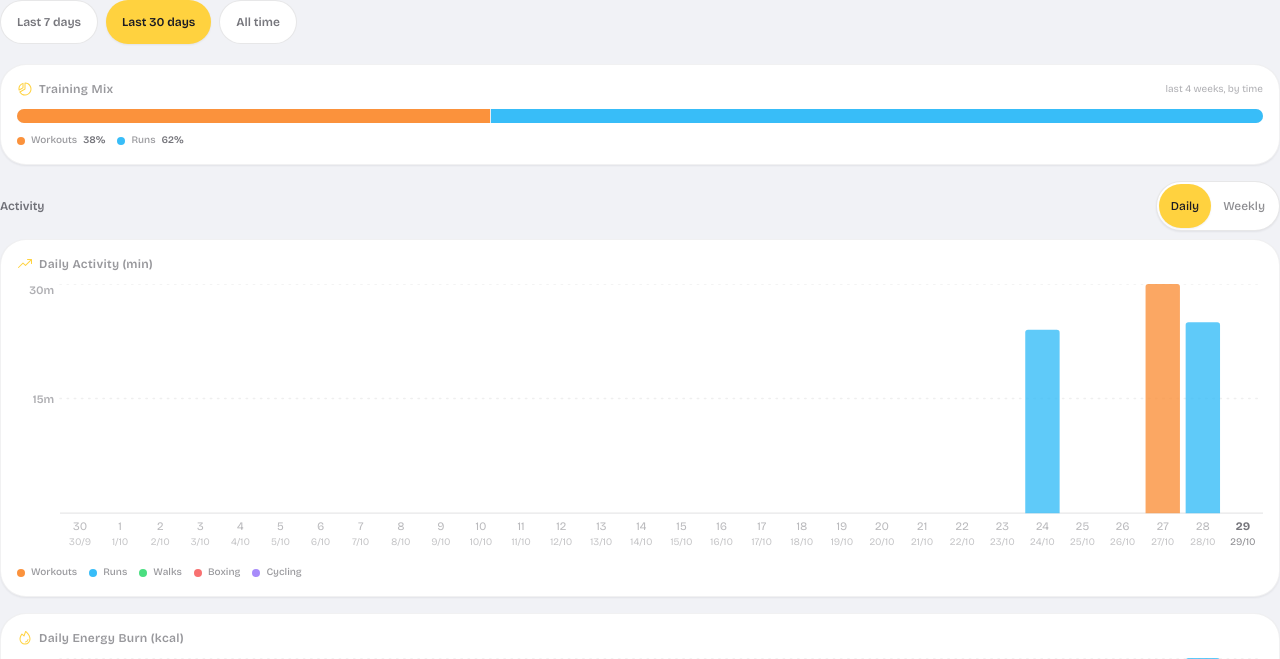
StatsTab › switches to weekly chart mode on Weekly click
This screenshot has width=1280, height=659.
Click the button "Weekly": (1244, 206) [1211,184,1277,228]
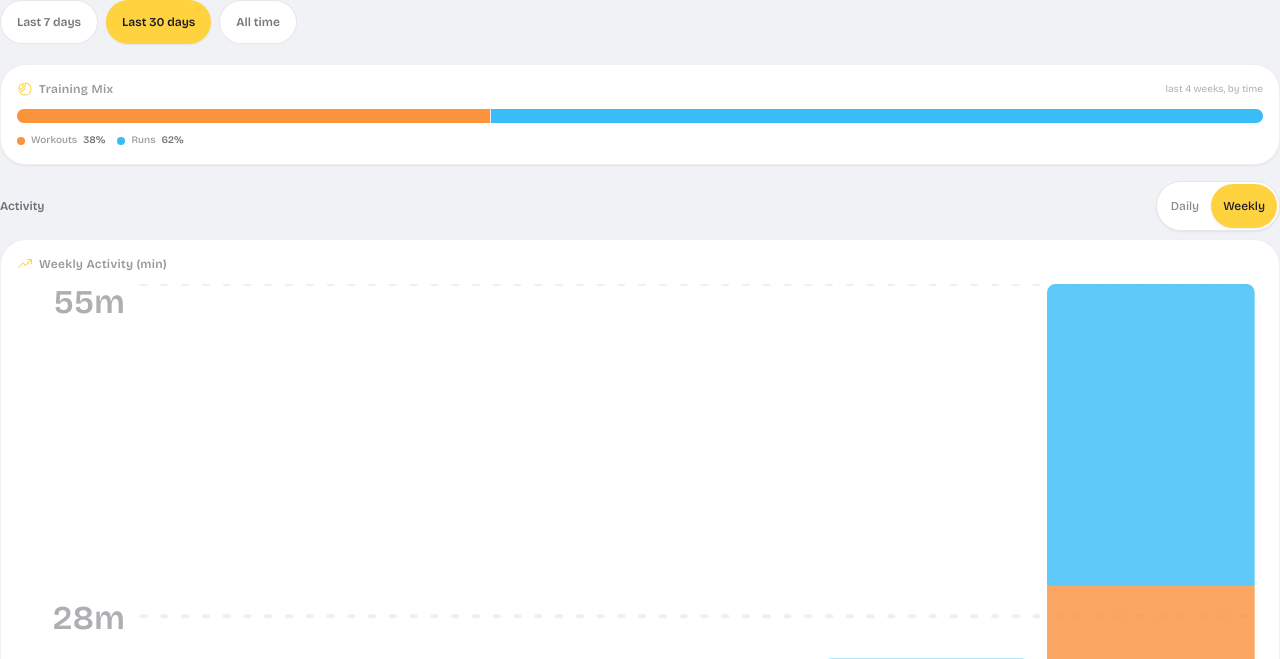
Now the text "Weekly Activity (min)" is shown, box [39,256,167,272]
